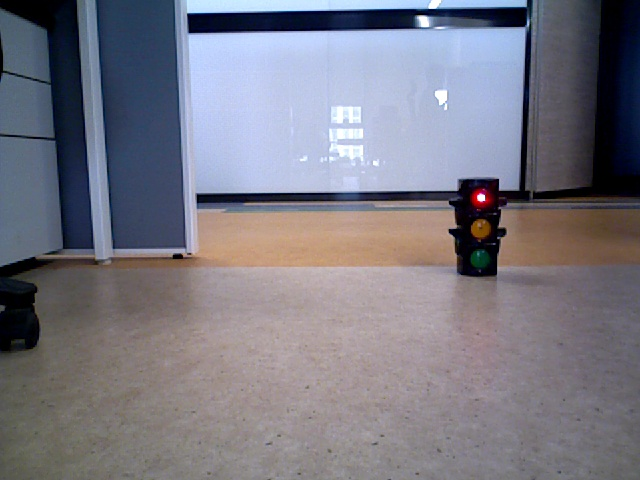red: (456, 182, 498, 273)
